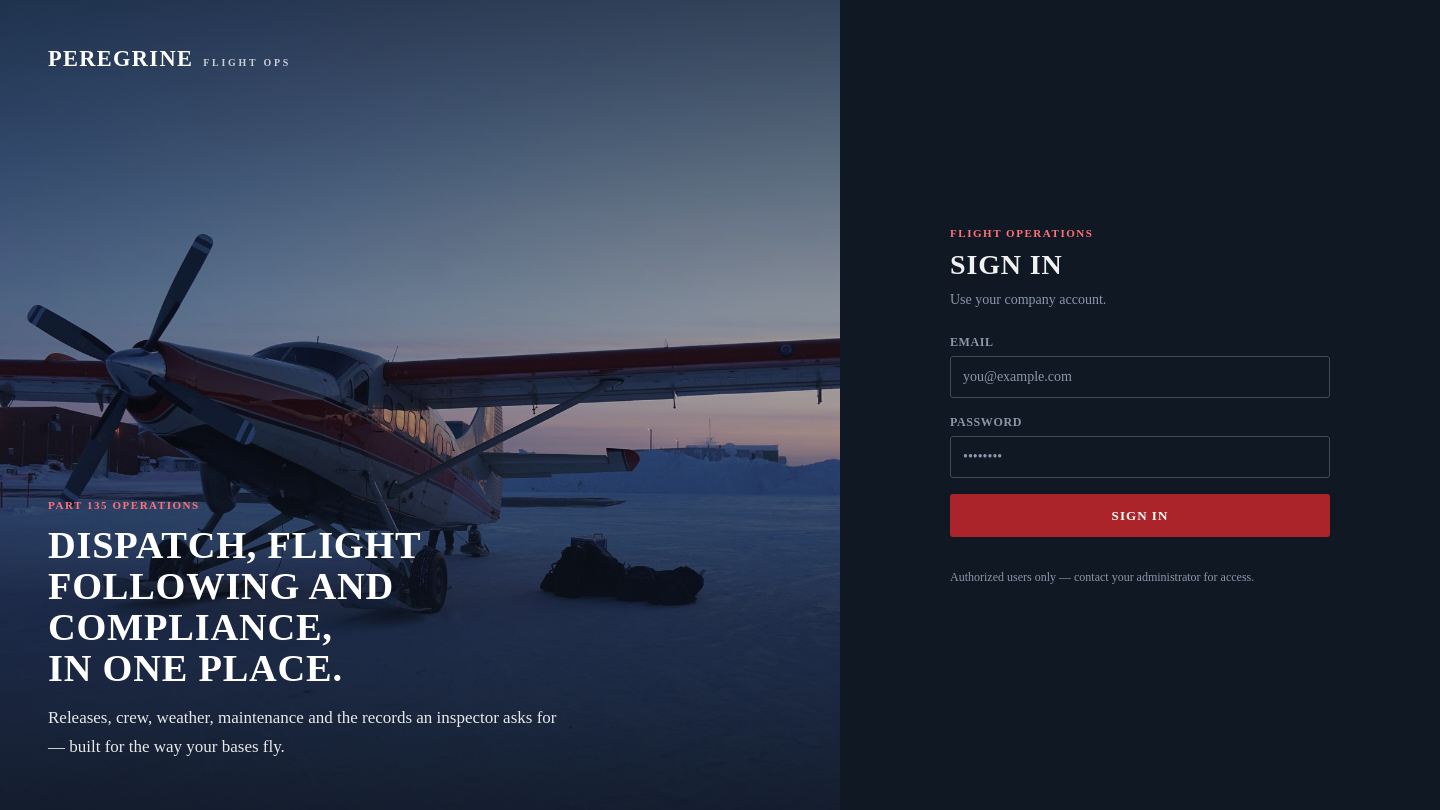
Scenario: LoginForm › says how long to wait when the email is locked (#16)
In the field labelled "Email": x=1140, y=377 [950, 356, 1330, 398], type "pilot@flightops.local"
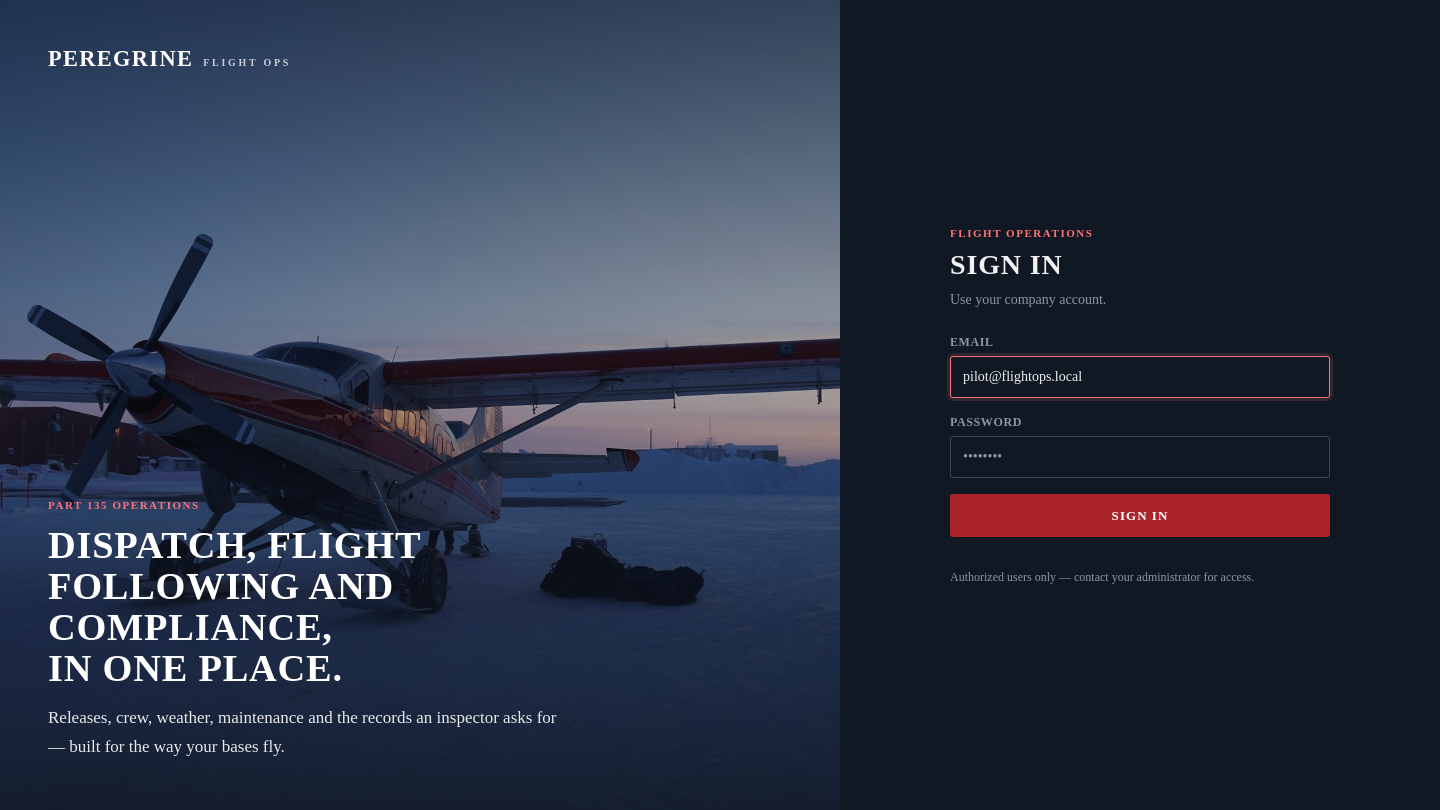
In the password field labelled "Password": x=1140, y=457 [950, 436, 1330, 478], type "right-password"
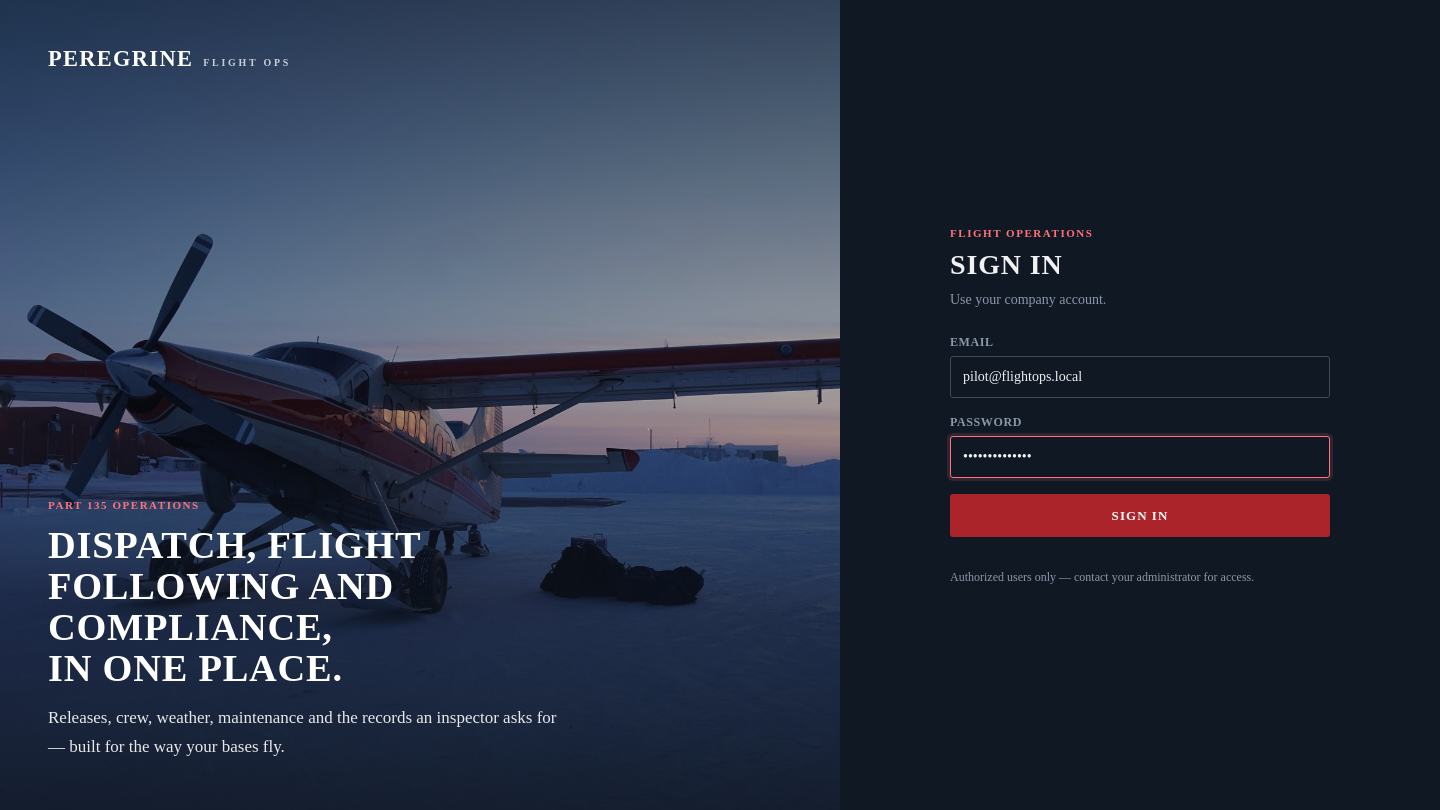
Click the button "Sign In": x=1140, y=515 [950, 494, 1330, 537]
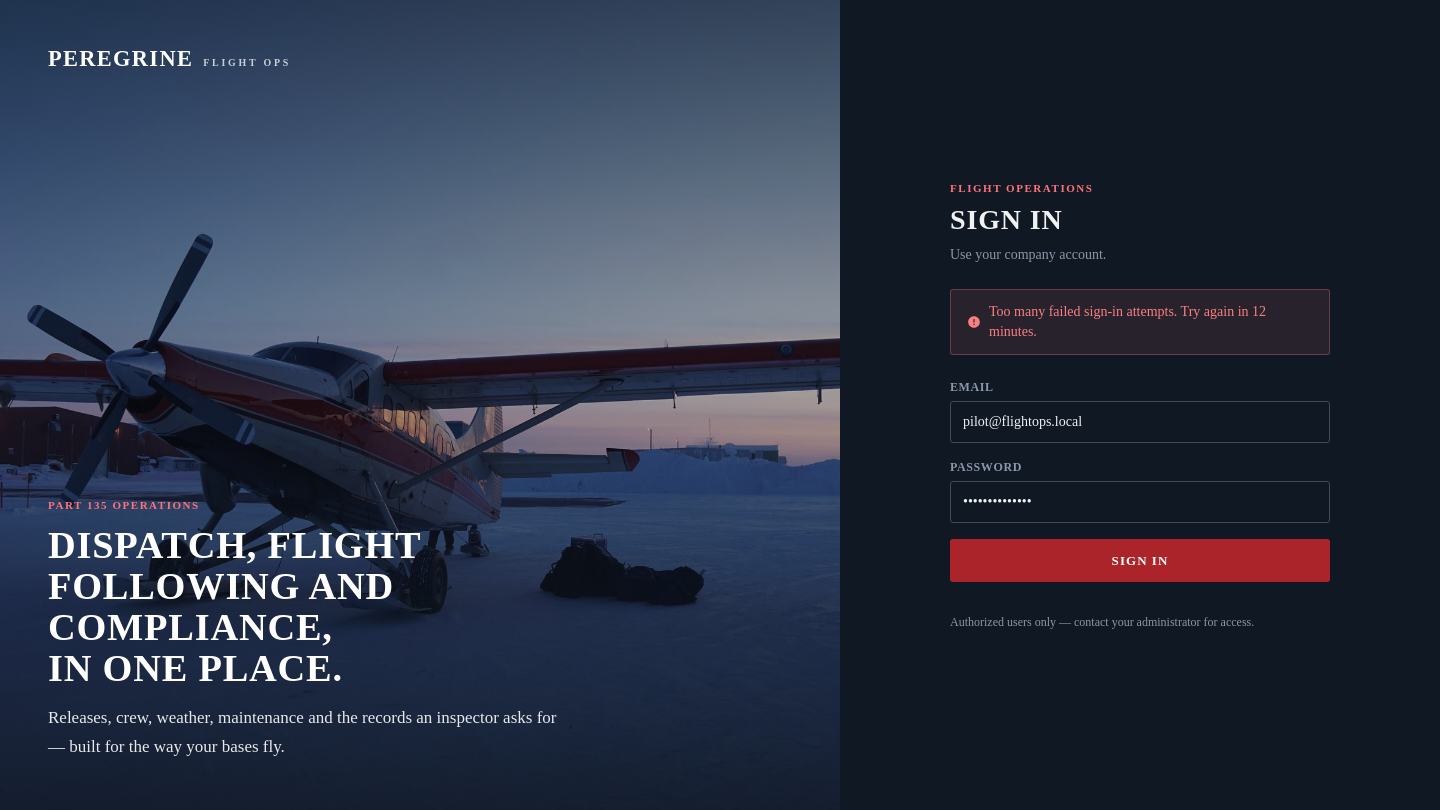
Result: the text "Too many failed sign-in attempts. Try again in 12 minutes." is shown at [989, 302, 1313, 342]
